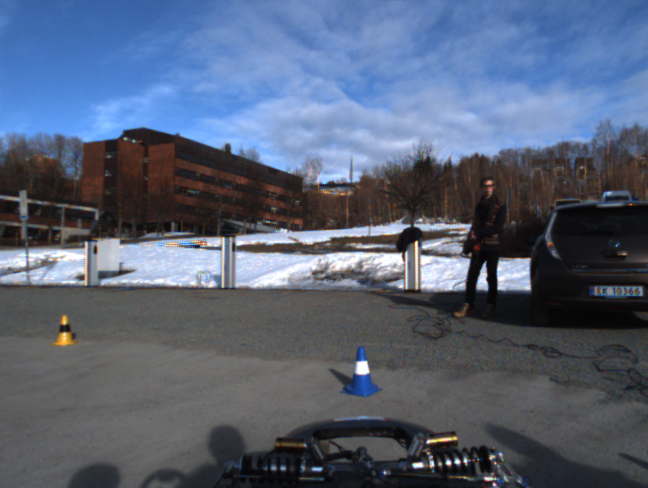cone-small-blue: (340, 346, 383, 397)
cone-small-yellow: (50, 315, 79, 345)
